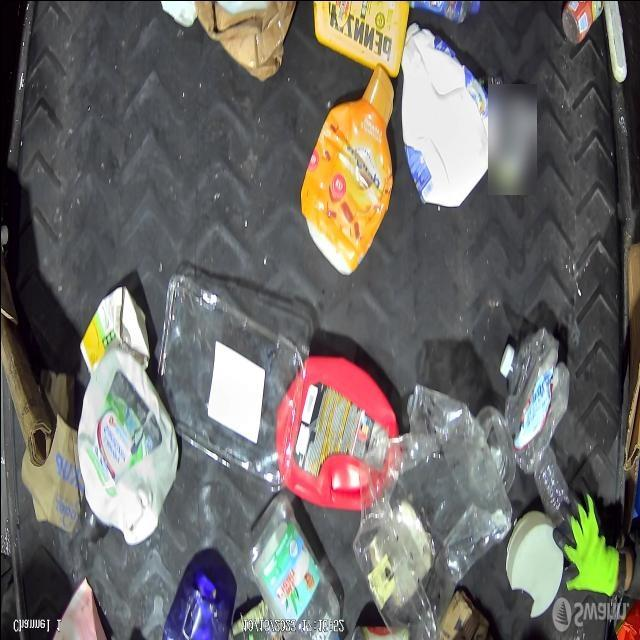milk_jug: (78, 340, 182, 540), (398, 26, 498, 210)
non_white_jug: (300, 70, 392, 272), (277, 358, 396, 514)
plastic_bottle: (499, 314, 564, 469)
